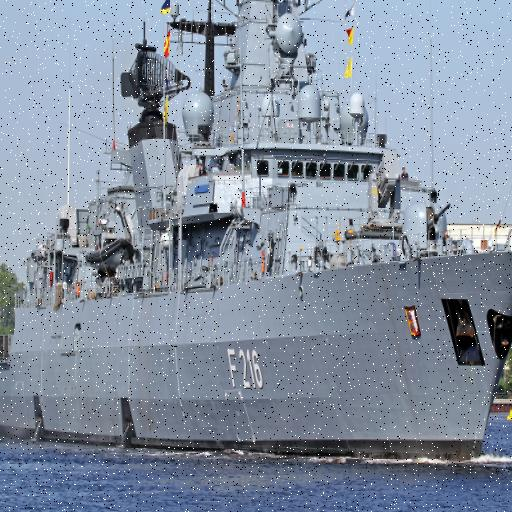Fragata: (1, 1, 512, 466)
